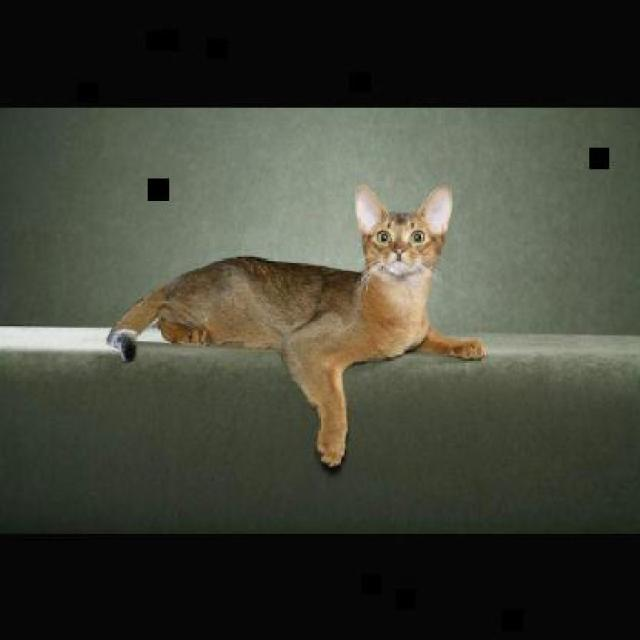unauthorized: (105, 182, 486, 469)
